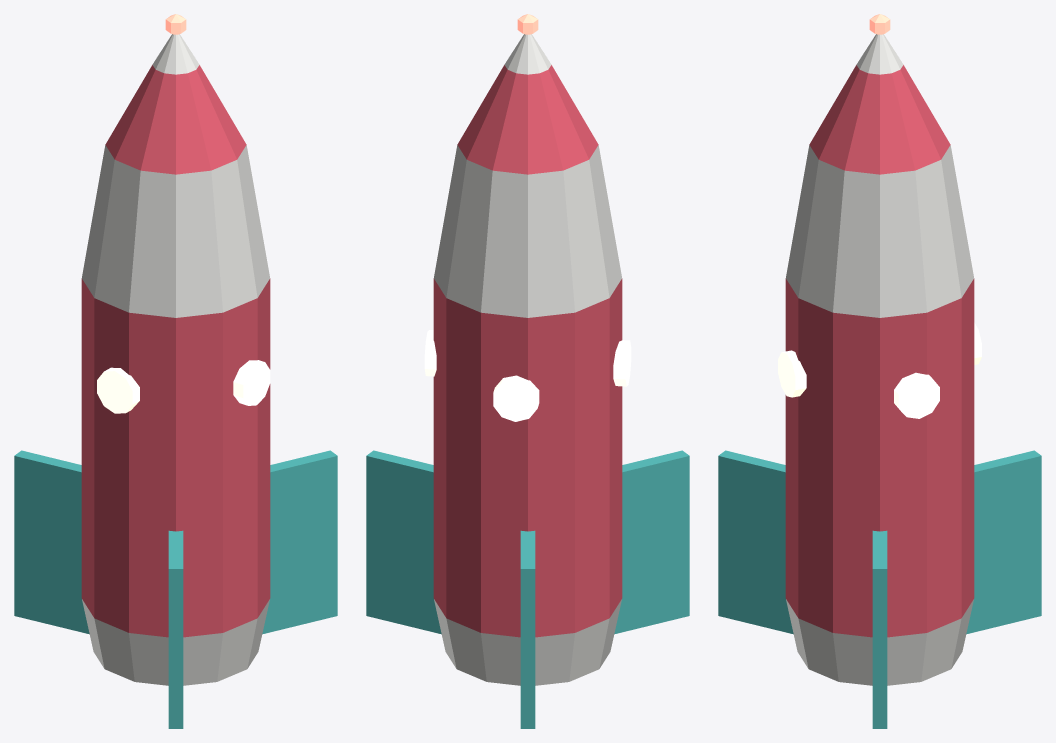
File: arena_rocket_tower.glb
The picture shows the model from 3 angles, left to right: view 1: azimuth 30°, elevation 25°; view 2: azimuth 150°, elevation 25°; view 3: azimuth 270°, elevation 25°; orthographic projection.
Visible parts, largest first — view 1: arena_rocket_tower; view 2: arena_rocket_tower; view 3: arena_rocket_tower.
Boxes of the visible parts, <box> form: arena_rocket_tower: <box>14,14,337,728</box>; arena_rocket_tower: <box>366,14,689,728</box>; arena_rocket_tower: <box>718,14,1041,728</box>.
Size of the model in its own units: 4.83 by 11.95 by 5.49.
